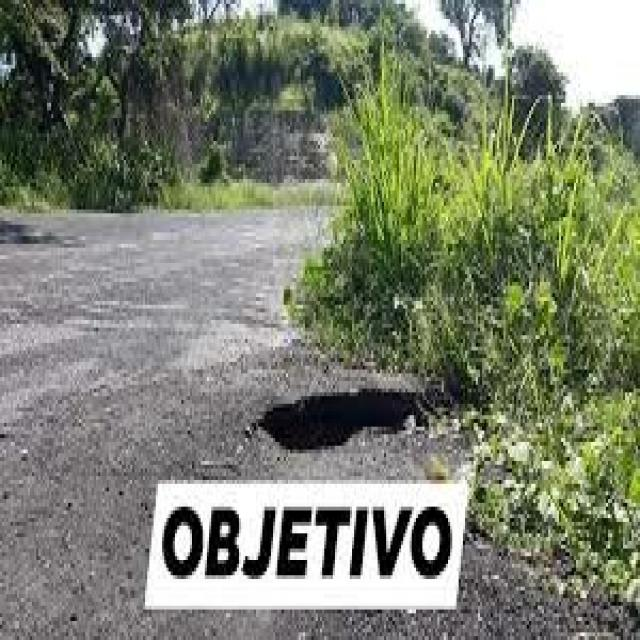Pothole: (216, 362, 502, 499)
